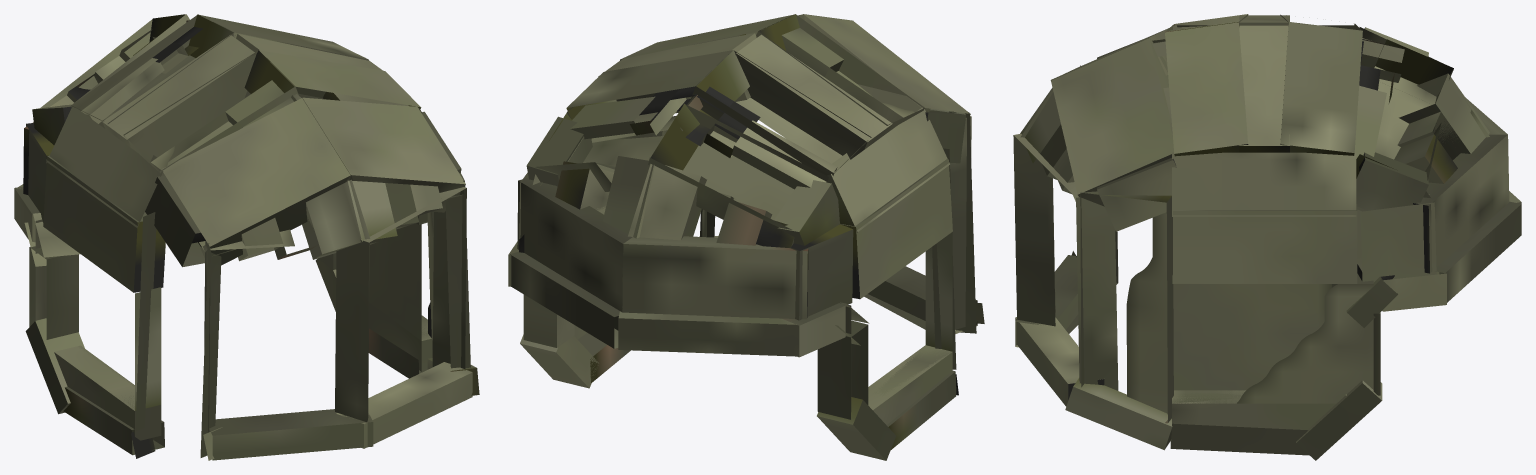
Rendered from zch_h.obj.
3 views of the same model, side by side, from view 1: azimuth 30°, elevation 25°; view 2: azimuth 150°, elevation 25°; view 3: azimuth 270°, elevation 25° (orthographic). The views are drawn at different scales.
Parts seen in each view (by area): view 1: zch_h; view 2: zch_h; view 3: zch_h.
Part boxes in pixels (x1,y1,x2,y2): zch_h: (14,14,479,460); zch_h: (508,14,984,460); zch_h: (1013,14,1521,460).
Bounding box in the file's own units: 0.6875 × 0.7112 × 0.9135.
